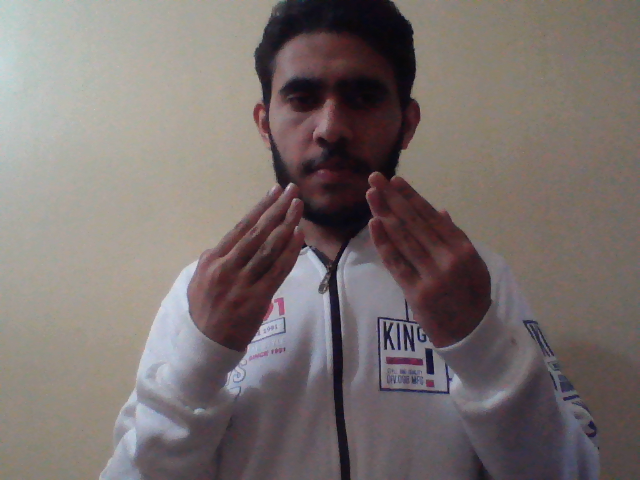thanks: (184, 164, 499, 358)
